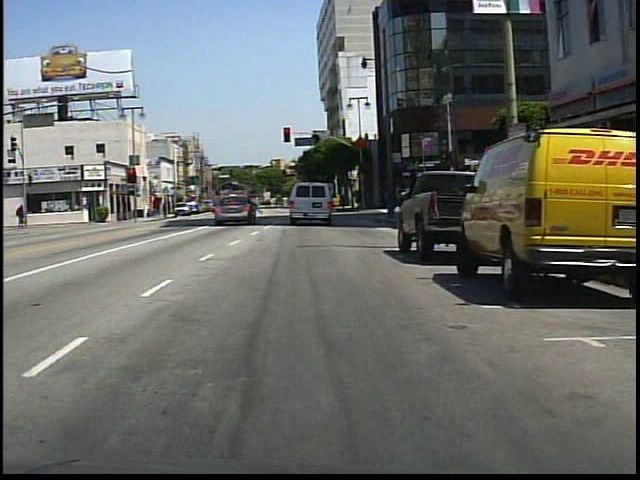person: (287, 191, 305, 222), (15, 202, 26, 229), (258, 194, 259, 219)
